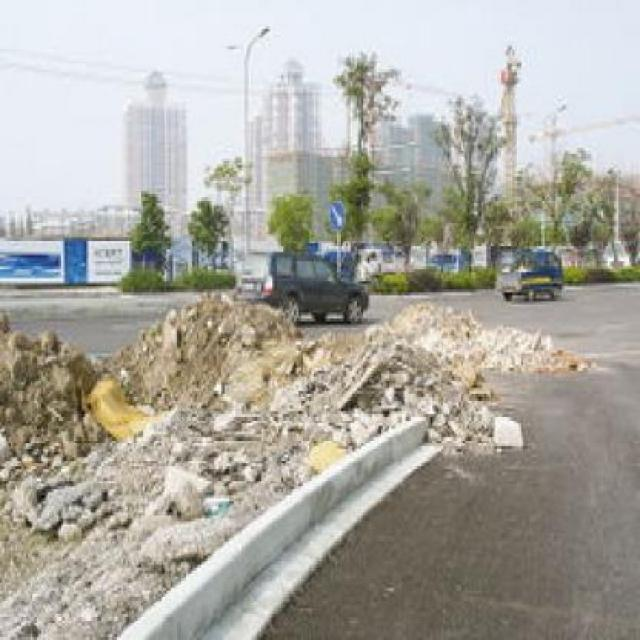garbage: (0, 301, 582, 640)
